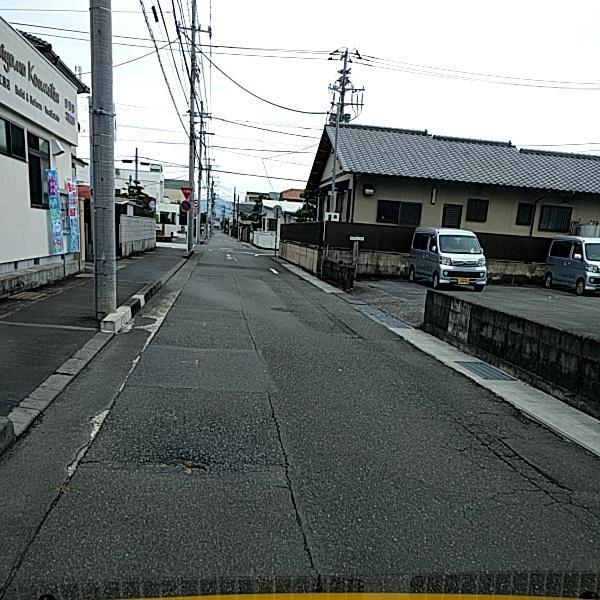pothole: (148, 451, 231, 473)
